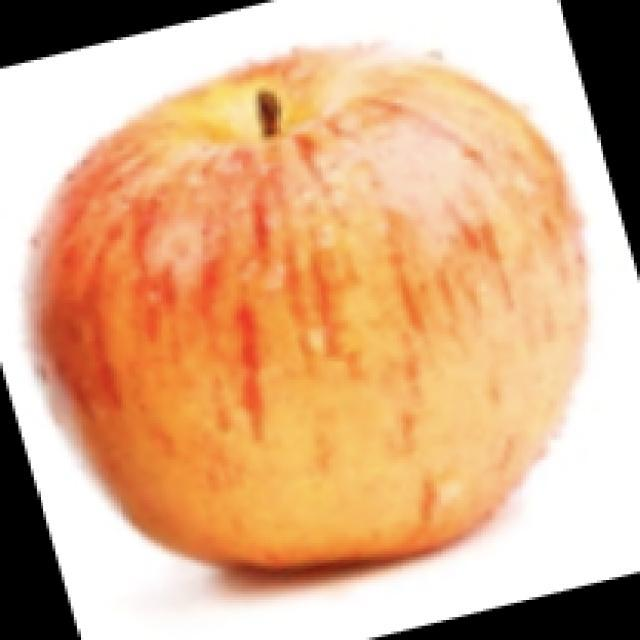Fresh Apple: (33, 55, 572, 577)
